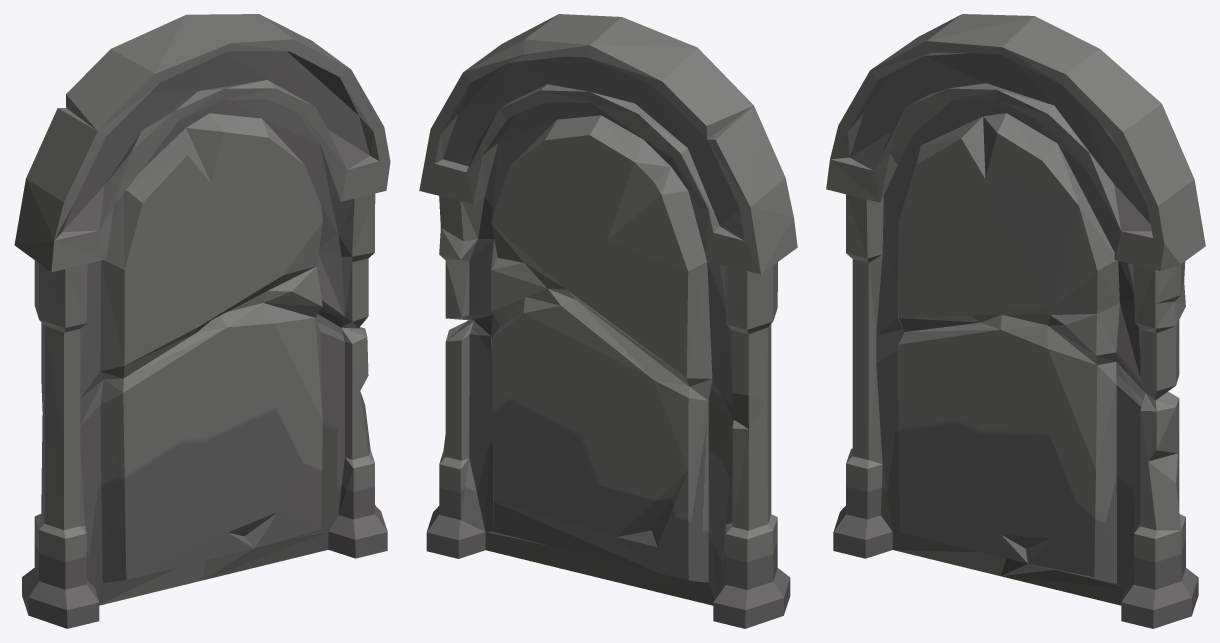
Rendered from SM_Prop_Tombstone_01.fbx.
The picture shows the model from 3 angles, left to right: view 1: azimuth 30°, elevation 25°; view 2: azimuth 150°, elevation 25°; view 3: azimuth 330°, elevation 25°; orthographic projection.
Visible parts, largest first — view 1: SM_Prop_Tombstone_01; view 2: SM_Prop_Tombstone_01; view 3: SM_Prop_Tombstone_01.
Part boxes in pixels (x1=…): SM_Prop_Tombstone_01: x1=14, y1=14, x2=390, y2=628; SM_Prop_Tombstone_01: x1=419, y1=14, x2=797, y2=628; SM_Prop_Tombstone_01: x1=826, y1=14, x2=1205, y2=628.
Bounding box in the file's own units: 80.76 × 119 × 17.99.
1 material, 1 textured.
